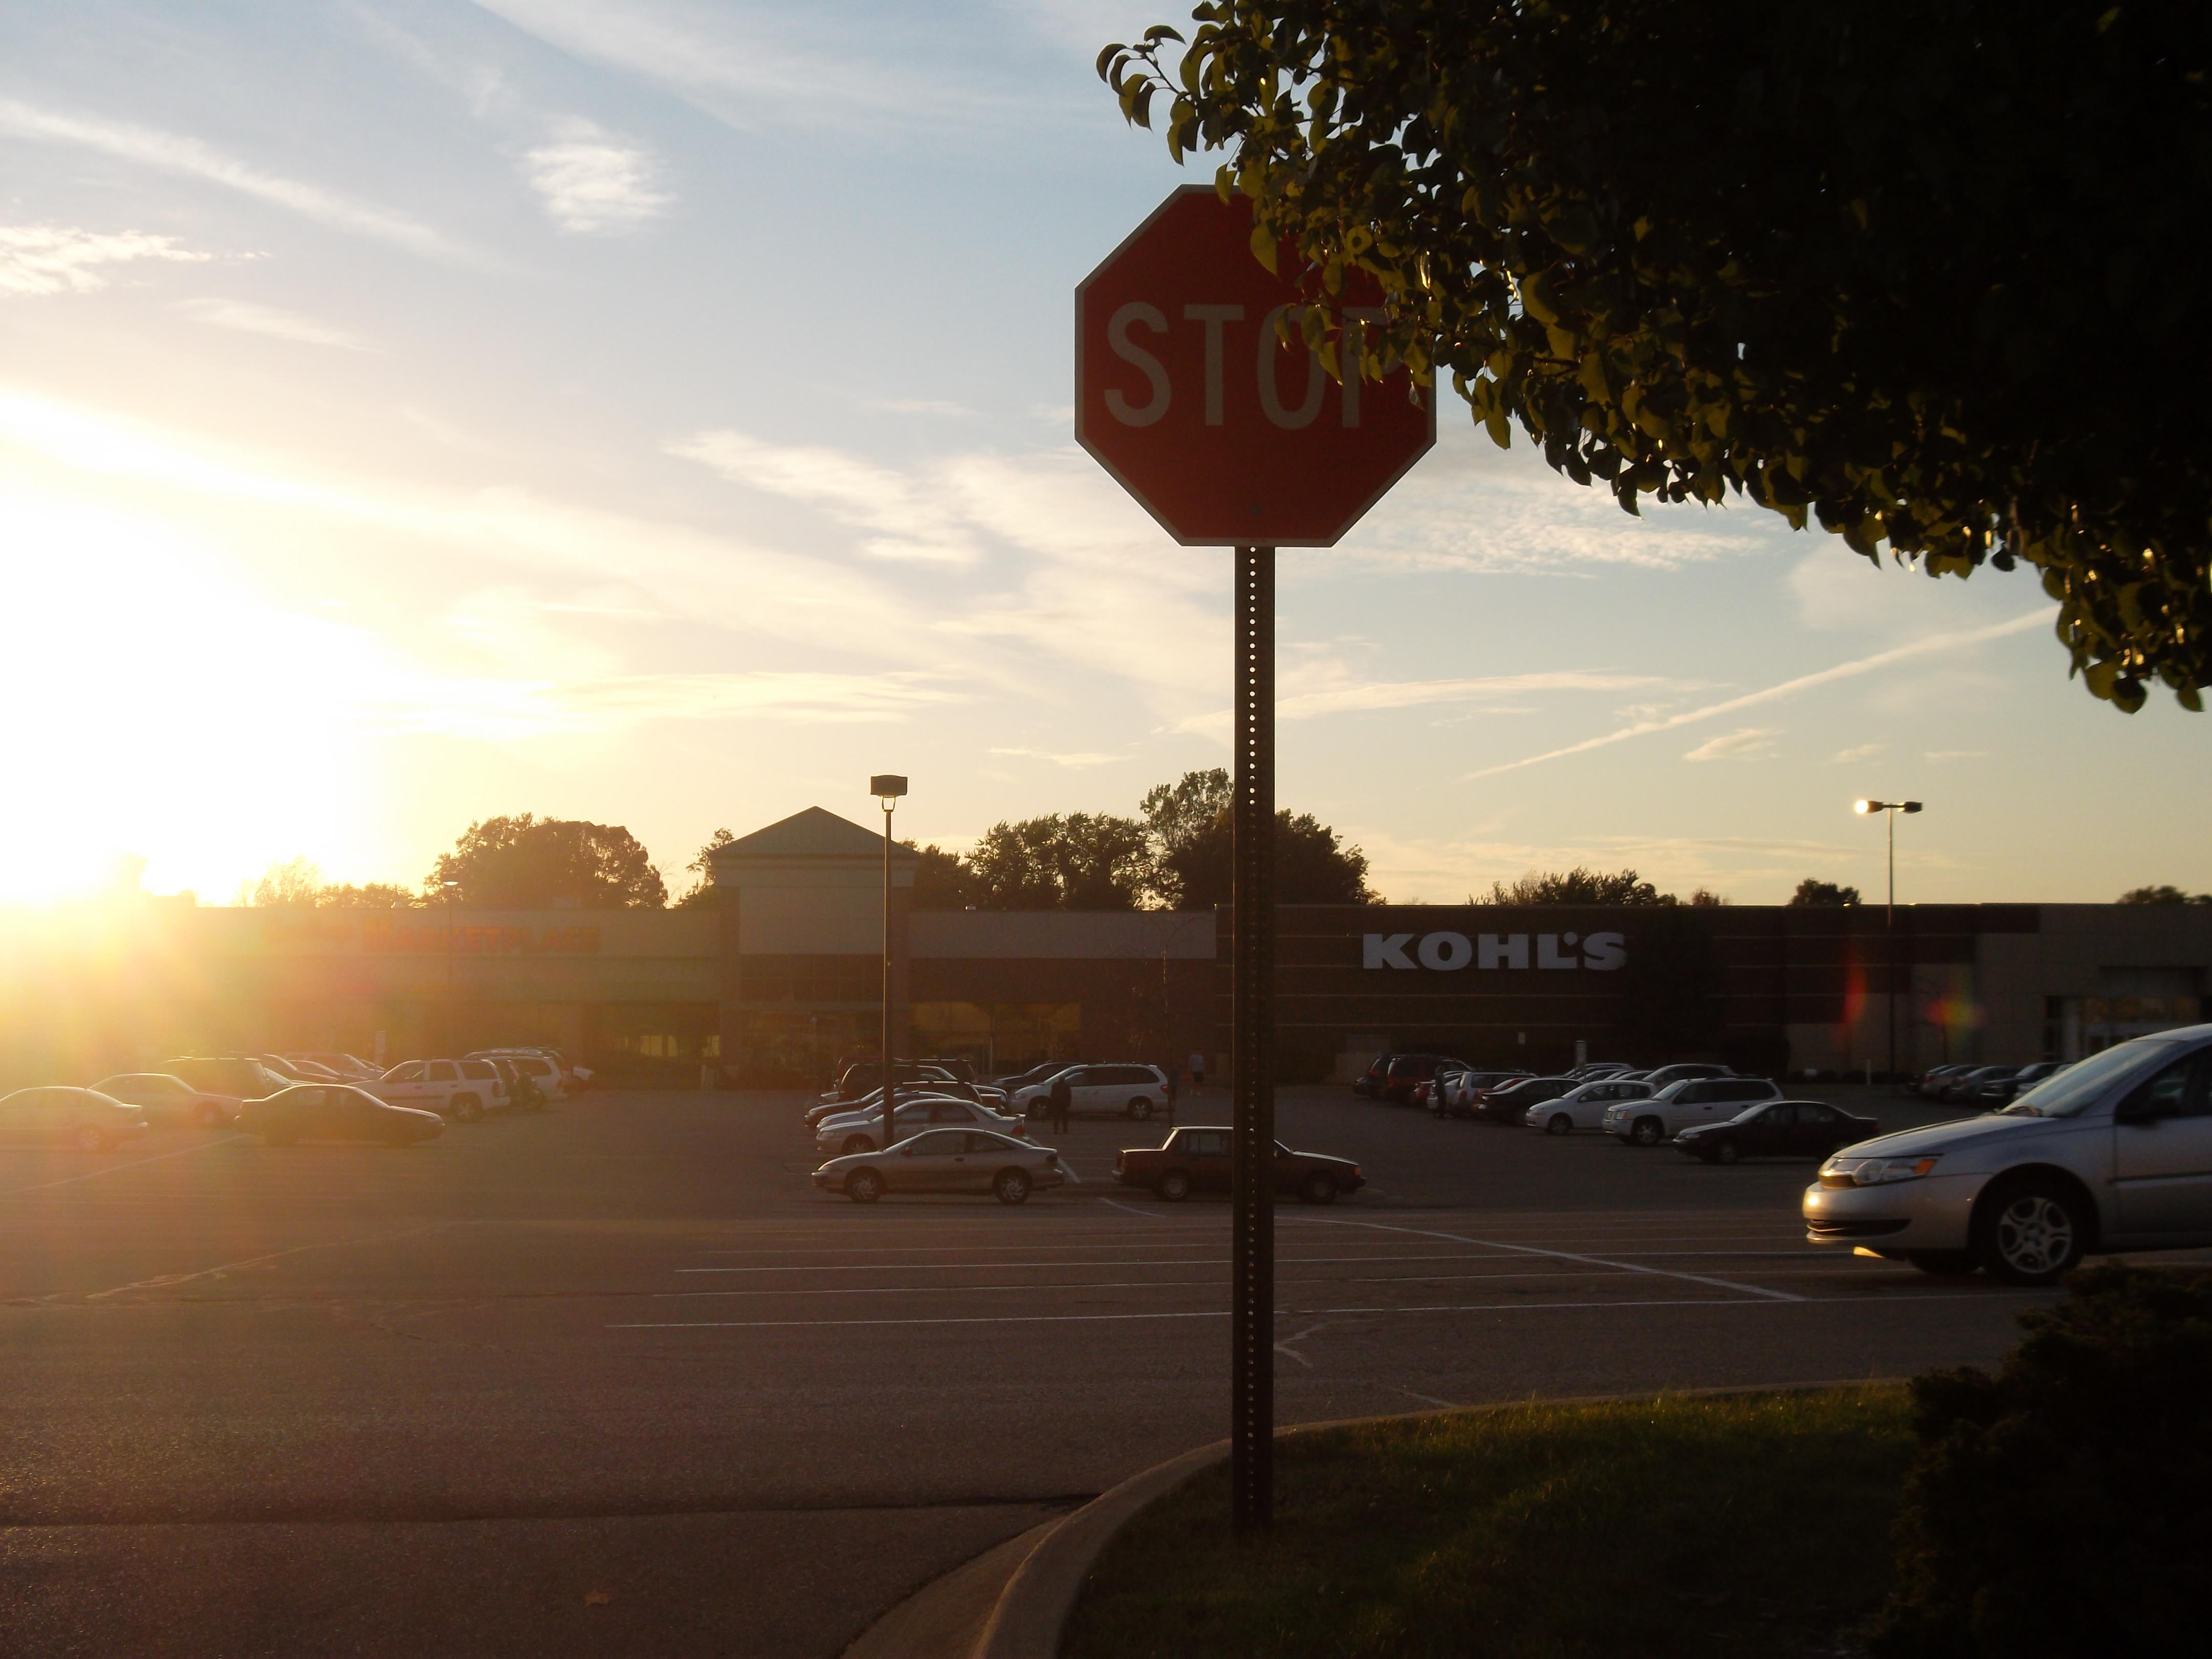stop: (1066, 179, 1454, 565)
